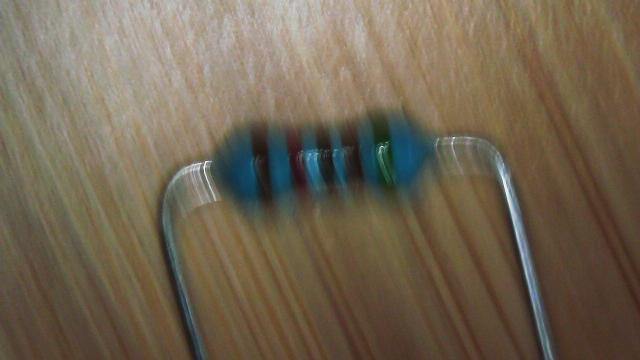black: (316, 129, 338, 192)
brown: (250, 124, 272, 202), (340, 126, 364, 189)
green: (370, 114, 397, 190)
red: (286, 129, 309, 194)
resistor: (210, 109, 431, 209)
